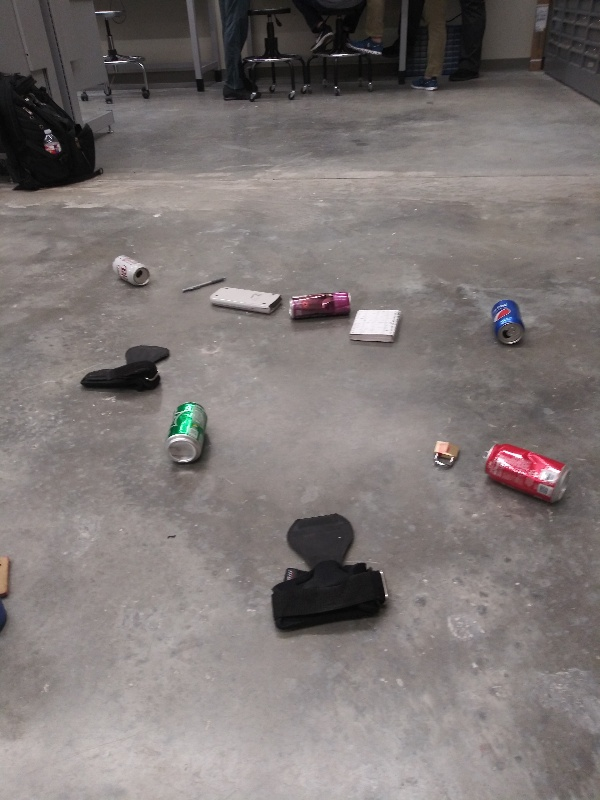can: (478, 439, 574, 508), (160, 398, 212, 467), (284, 286, 357, 325), (485, 296, 530, 350), (107, 254, 152, 289)
